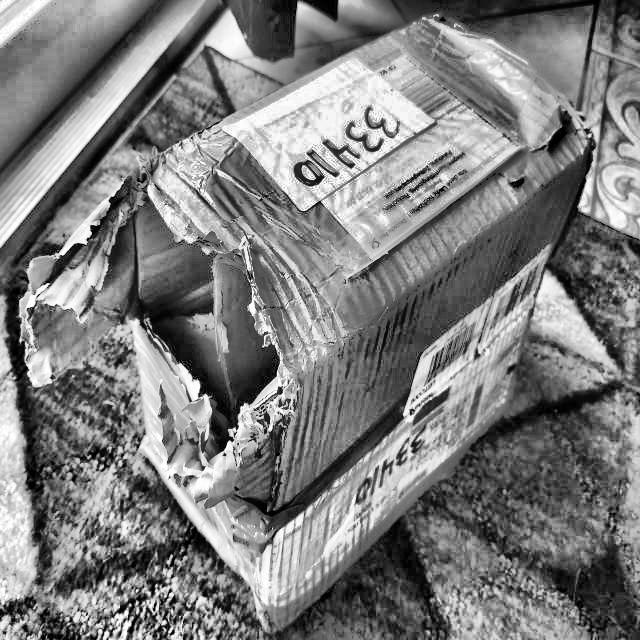box: (125, 10, 598, 639)
hole: (131, 179, 285, 477)
